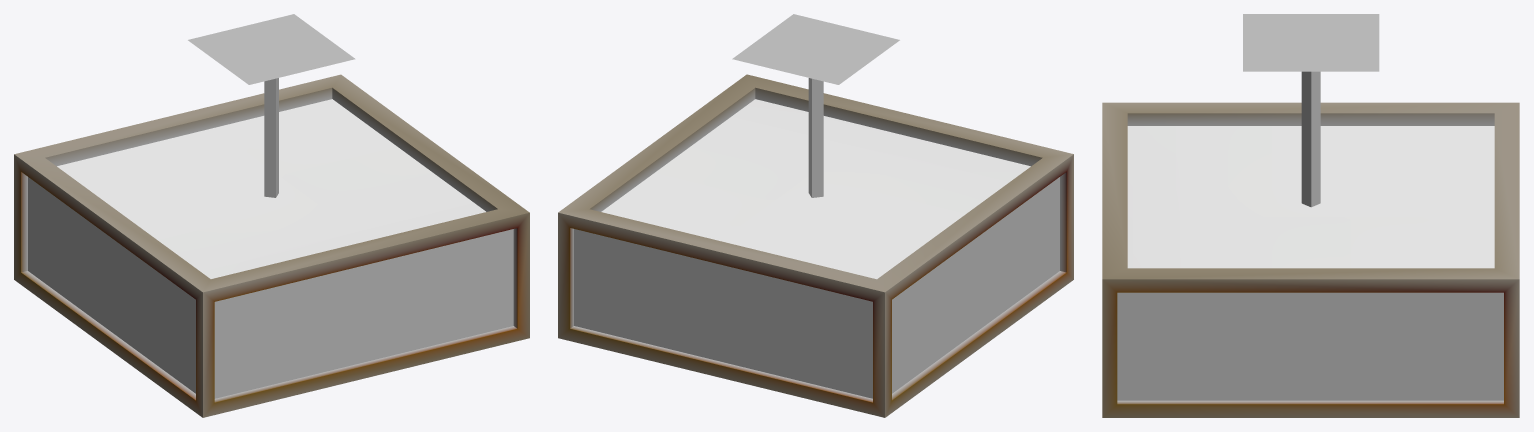
The model's file is dento01.fbx.
The picture shows the model from 3 angles, left to right: view 1: azimuth 30°, elevation 25°; view 2: azimuth 150°, elevation 25°; view 3: azimuth 270°, elevation 25°; orthographic projection. The views are drawn at different scales.
Parts seen in each view (by area): view 1: dento01; view 2: dento01; view 3: dento01.
Boxes of the visible parts, box(x1,y1,x2,y2) form: dento01: box(14, 14, 529, 417); dento01: box(558, 14, 1073, 417); dento01: box(1102, 14, 1519, 417).
Size of the model in its own units: 134 by 101 by 134.
